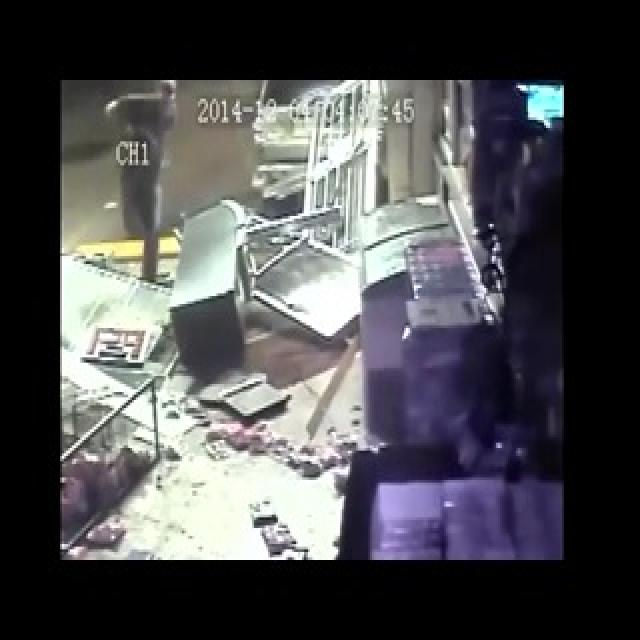thief: (120, 91, 192, 284)
